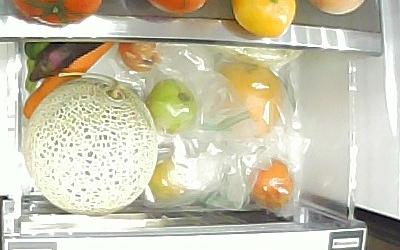carrot: (23, 43, 114, 120)
eggplant: (30, 42, 105, 82)
melon: (22, 77, 158, 214)
pear_vinyl: (219, 61, 282, 131)
prune_vinyl: (250, 159, 294, 211)
tangerine_vinyl: (150, 160, 185, 201)
tomato_vinyl: (146, 79, 198, 133), (120, 42, 159, 73)
zucchini: (23, 41, 50, 94)
